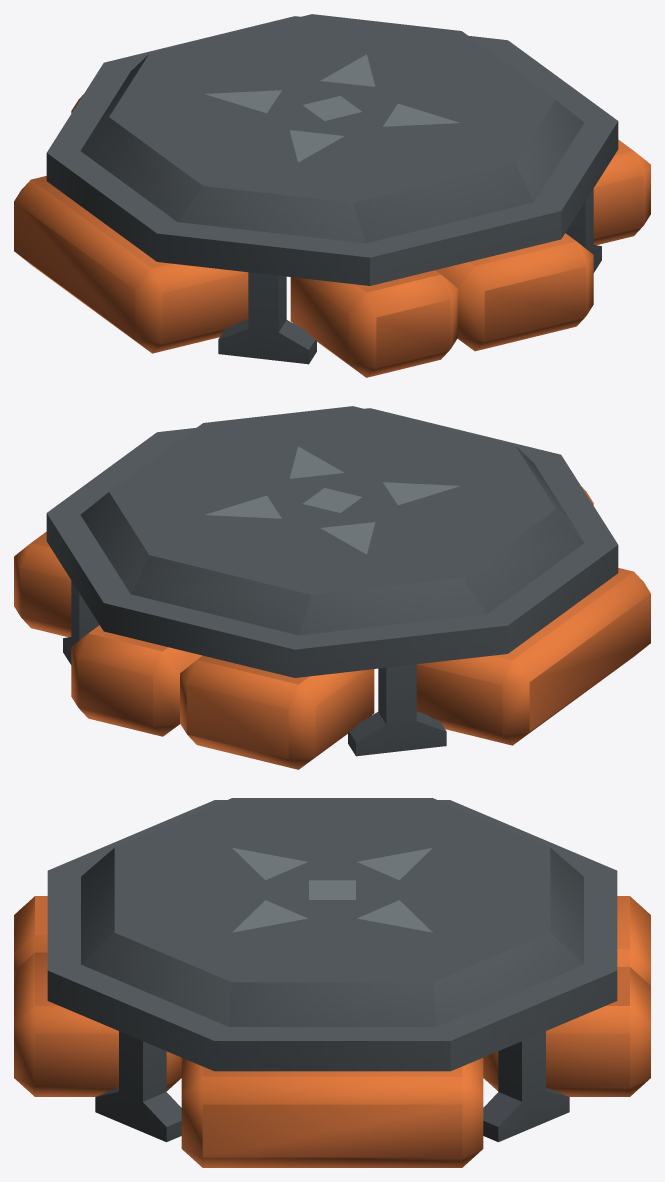
File: Landing Pad-QpDGgpHcH2.glb
3 views of the same model, one above another, from view 1: azimuth 30°, elevation 25°; view 2: azimuth 150°, elevation 25°; view 3: azimuth 270°, elevation 25° (orthographic). The views are drawn at different scales.
Visible parts, largest first — view 1: landingpad_small; view 2: landingpad_small; view 3: landingpad_small.
Boxes of the visible parts, x1,y1,x2,y2 form: landingpad_small: [14, 14, 650, 377]; landingpad_small: [14, 406, 650, 769]; landingpad_small: [14, 798, 650, 1167].
Size of the model in its own units: 1.9 by 0.5 by 1.9.
1 material, 1 textured.
